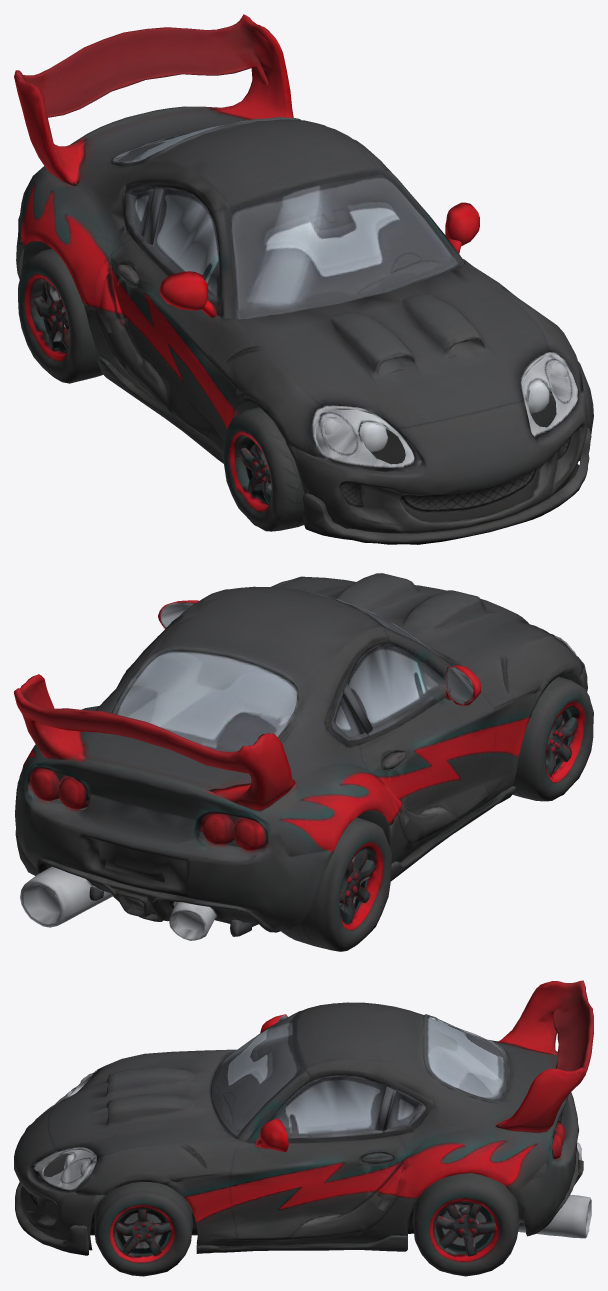
File: car4.glb
3 views of the same model, one above another, from view 1: azimuth 30°, elevation 25°; view 2: azimuth 150°, elevation 25°; view 3: azimuth 270°, elevation 25° (orthographic). The views are drawn at different scales.
Visible parts, largest first — view 1: tripo_node_f5a288c1-1513-438f-8a27-de6b04b21718; view 2: tripo_node_f5a288c1-1513-438f-8a27-de6b04b21718; view 3: tripo_node_f5a288c1-1513-438f-8a27-de6b04b21718.
Part boxes in pixels (left/top/right/bottom): tripo_node_f5a288c1-1513-438f-8a27-de6b04b21718: left=14, top=14, right=593, bottom=544; tripo_node_f5a288c1-1513-438f-8a27-de6b04b21718: left=14, top=573, right=593, bottom=951; tripo_node_f5a288c1-1513-438f-8a27-de6b04b21718: left=14, top=980, right=593, bottom=1276.
Size of the model in its own units: 0.502 by 0.377 by 0.998.
1 material, 1 textured.
